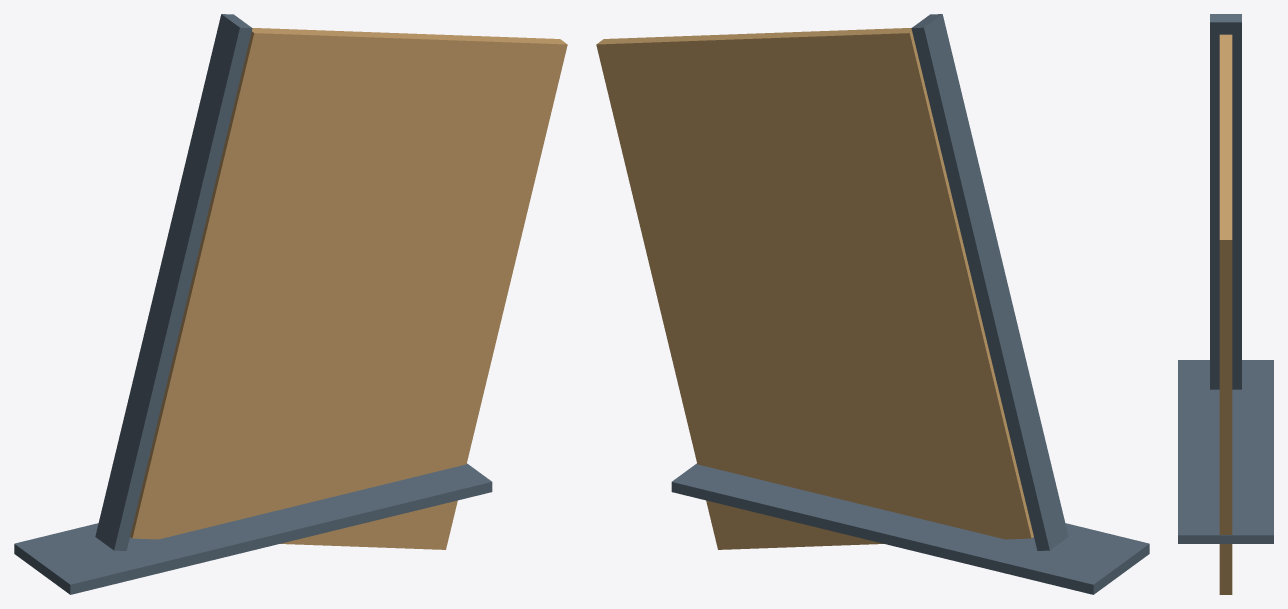
The model's file is demo-porte-axe-incline.glb.
3 renders of one model, left to right at view 1: azimuth 30°, elevation 25°; view 2: azimuth 150°, elevation 25°; view 3: azimuth 270°, elevation 25°, orthographic. The views are drawn at different scales.
Parts seen in each view (by area): view 1: Panneau_porte, Montant_charniere, Socle; view 2: Panneau_porte, Montant_charniere, Socle; view 3: Socle, Montant_charniere, Panneau_porte.
Boxes of the visible parts, bbox=[...] form: Panneau_porte: bbox=[130, 28, 567, 549]; Montant_charniere: bbox=[95, 14, 252, 550]; Socle: bbox=[14, 463, 492, 594]; Panneau_porte: bbox=[596, 28, 1033, 549]; Montant_charniere: bbox=[911, 14, 1068, 550]; Socle: bbox=[671, 463, 1149, 594]; Socle: bbox=[1178, 360, 1273, 543]; Montant_charniere: bbox=[1210, 14, 1241, 389]; Panneau_porte: bbox=[1219, 34, 1232, 594].
Size of the model in its own units: 0.3215 by 0.3403 by 0.06.
